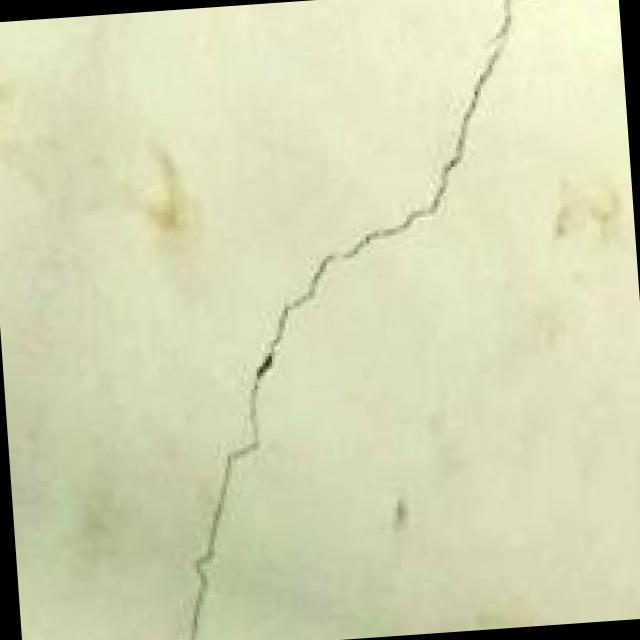crack: (100, 0, 578, 640)
